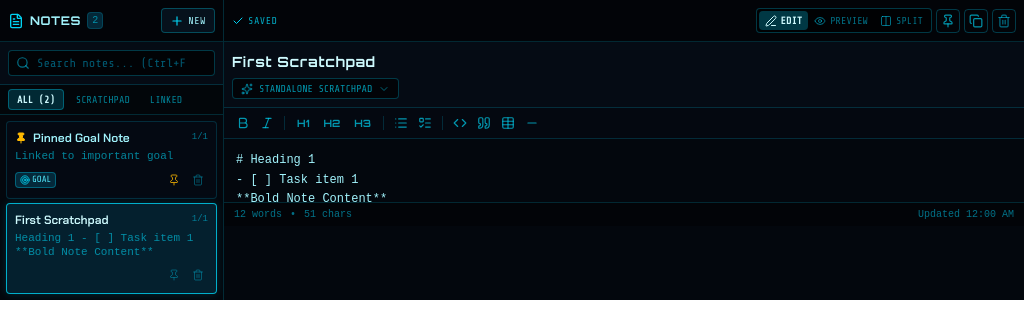
Test: NotesView Component › deletes note with confirmation prompt
Expected: the text "First Scratchpad" is shown, x1=15 y1=212 x2=109 y2=228
Click the button titled "Delete Active Note" at (1004, 20), box x1=992 y1=8 x2=1016 y2=32
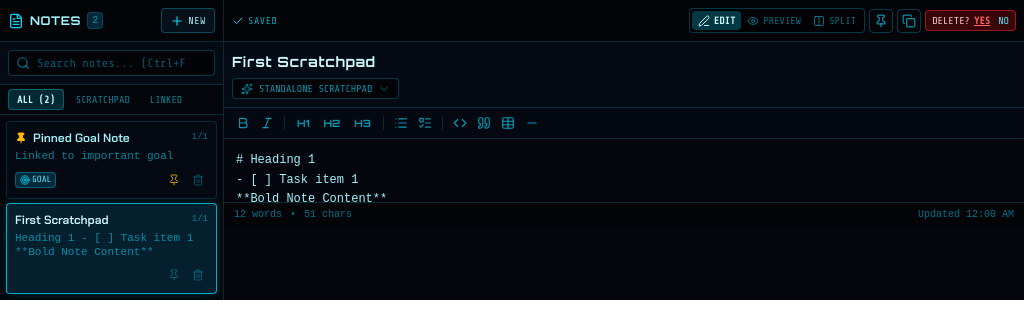
Expected: the text "DELETE?" is shown, x1=932 y1=13 x2=970 y2=28
Click the button "YES" at (982, 20), box x1=974 y1=13 x2=990 y2=28
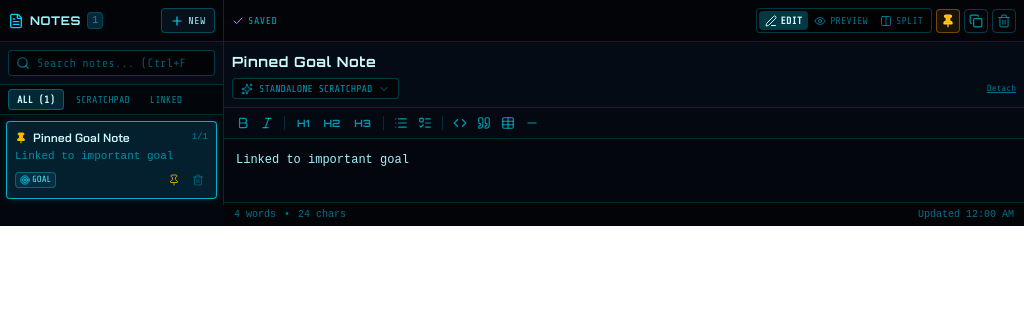
Expected: the text "First Scratchpad" is gone
